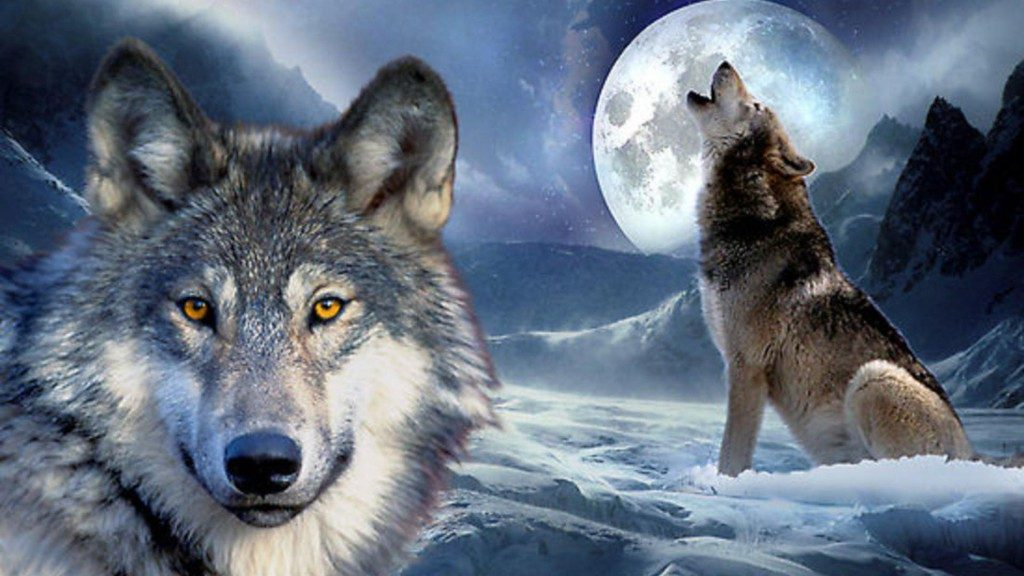Lobo: (64, 26, 505, 552), (659, 55, 968, 490)
